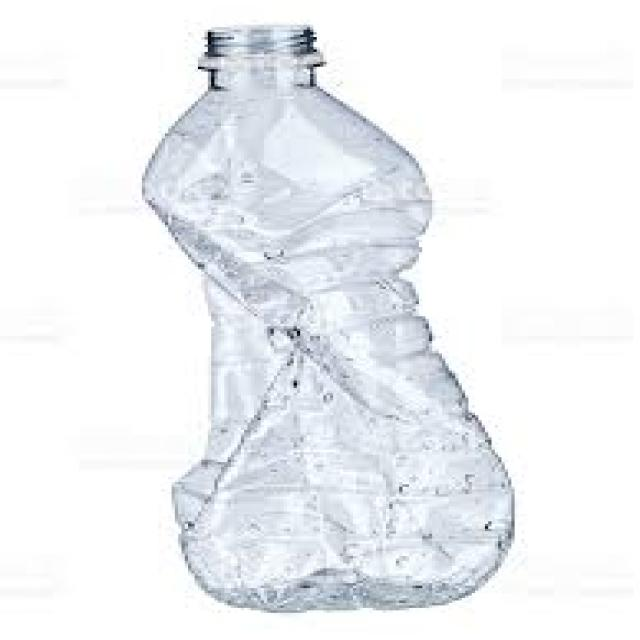Anorganik: (136, 20, 512, 610)
